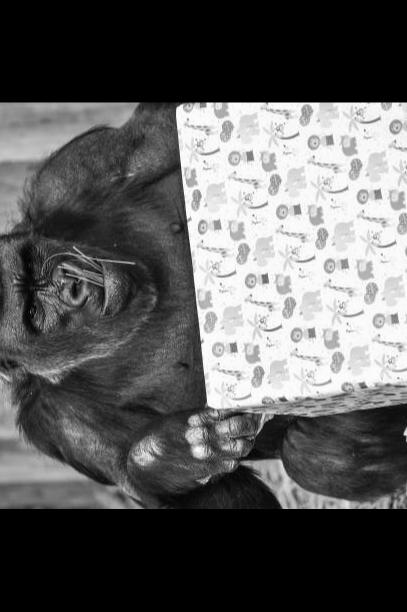gorille_Autres: (0, 122, 184, 472)
